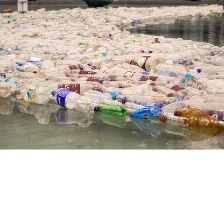bottle: (18, 81, 205, 224)
